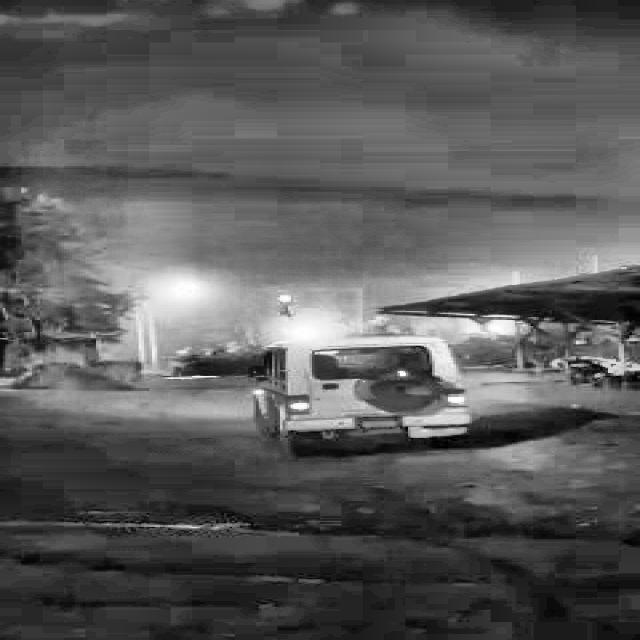light_vehicle: (258, 332, 475, 445)
